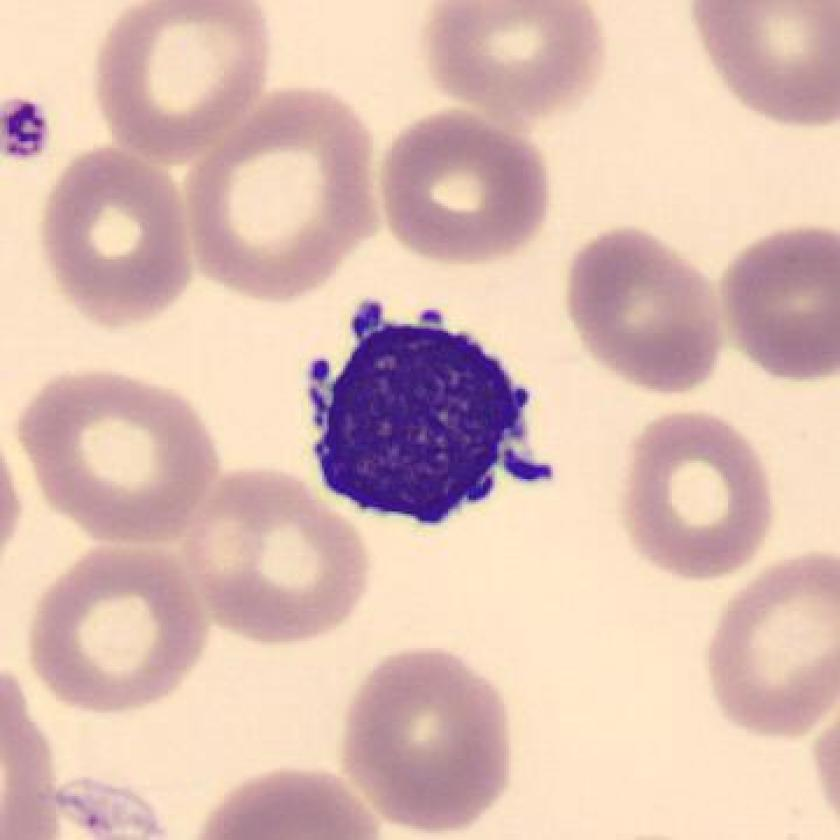lymphocyte: (279, 286, 563, 547)
